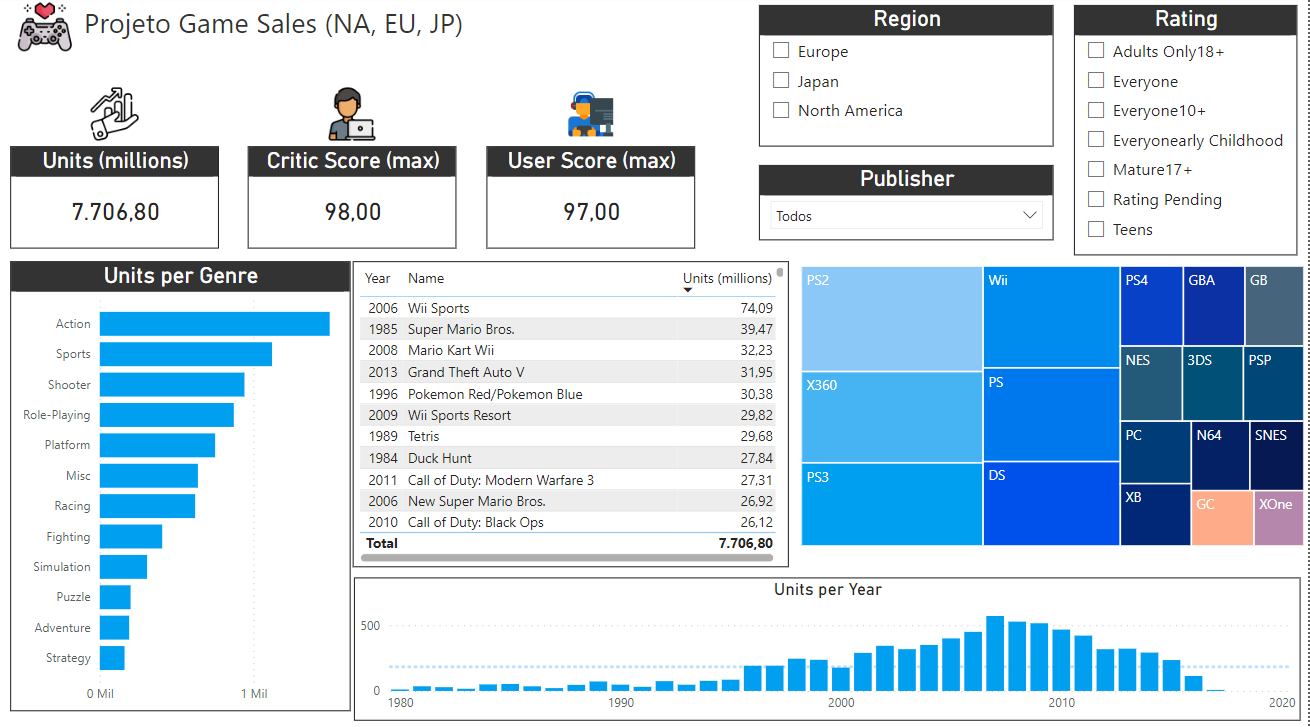

The dashboard page shown, as its layout file describes it:
{"tool":"powerbi","page":{"name":"Dashboard","canvas":[1280,720],"ordinal":0},"visuals":[{"type":"clusteredColumnChart","title":"Units per Year","fields":{"Category":["Fato.Year_of_Release.Variation.Date Hierarchy.Year"],"Y":["Sum(Fato.Amount)"]},"box":[347.6,570.1,925.7,140.1],"z":0},{"type":"card","title":"Units (millions)","fields":{"Values":["Sum(Fato.Amount)"]},"box":[10.6,148.1,203.9,100.2],"z":1000},{"type":"clusteredBarChart","title":"Units per Genre","fields":{"Category":["DIM_Genre.Genre"],"Y":["Sum(Fato.Amount)"]},"box":[10.6,259.8,332.5,439.8],"z":2000},{"type":"slicer","title":"Rating","fields":{"Values":["DIM_Rating.Rating"]},"box":[1050.7,9.8,218.1,244.7],"z":3000},{"type":"slicer","title":"Region","fields":{"Values":["DIM_region.Region"]},"box":[743.1,9.8,288.2,138.3],"z":4000},{"type":"tableEx","fields":{"Values":["Fato.Year_of_Release.Variation.Date Hierarchy.Year","Fato.Name","Sum(Fato.Amount)"]},"box":[345.8,259.8,426.5,298.8],"z":5000},{"type":"treemap","fields":{"Group":["DIM_Platform.Platform"],"Values":["Sum(Fato.Amount)"]},"box":[779.4,259.8,501,283.7],"z":6000},{"type":"card","title":"Critic Score (max)","fields":{"Values":["Max(Fato.Critic_Score)"]},"box":[243.8,148.1,203.9,100.2],"z":7000},{"type":"card","title":"User Score (max)","fields":{"Values":["Max(Fato.User Score (0-100))"]},"box":[477,148.1,203.9,100.2],"z":8000},{"type":"slicer","title":"Publisher","fields":{"Values":["DIM_Publisher.Publisher"]},"box":[743.1,166.7,288.2,73.6],"z":9000},{"type":"image","box":[10.6,86,203.9,62.1],"z":10000},{"type":"textbox","box":[78,3.5,586.1,59.4],"z":11000},{"type":"image","box":[0,0,88.7,63],"z":12000},{"type":"image","box":[243.8,86,203.9,62.1],"z":13000},{"type":"image","box":[477,86,203.9,62.1],"z":14000}]}

Visuals, with their boxes in screenshot pixels (x1, y1, x2, y2), scaled from the page's 1280x720 canvas onto the 1310x727 screenshot:
"Units per Year" clusteredColumnChart: x1=356, y1=576, x2=1303, y2=717
"Units (millions)" card: x1=11, y1=150, x2=220, y2=251
"Units per Genre" clusteredBarChart: x1=11, y1=262, x2=351, y2=706
"Rating" slicer: x1=1075, y1=10, x2=1299, y2=257
"Region" slicer: x1=761, y1=10, x2=1055, y2=150
tableEx - Fato.Year_of_Release.Variation.Date Hierarchy.Year x Fato.Name: x1=354, y1=262, x2=790, y2=564
treemap - DIM_Platform.Platform x Sum(Fato.Amount): x1=798, y1=262, x2=1309, y2=549
"Critic Score (max)" card: x1=250, y1=150, x2=458, y2=251
"User Score (max)" card: x1=488, y1=150, x2=697, y2=251
"Publisher" slicer: x1=761, y1=168, x2=1055, y2=243
image: x1=11, y1=87, x2=220, y2=150
textbox: x1=80, y1=4, x2=680, y2=64
image: x1=0, y1=0, x2=91, y2=64
image: x1=250, y1=87, x2=458, y2=150
image: x1=488, y1=87, x2=697, y2=150
